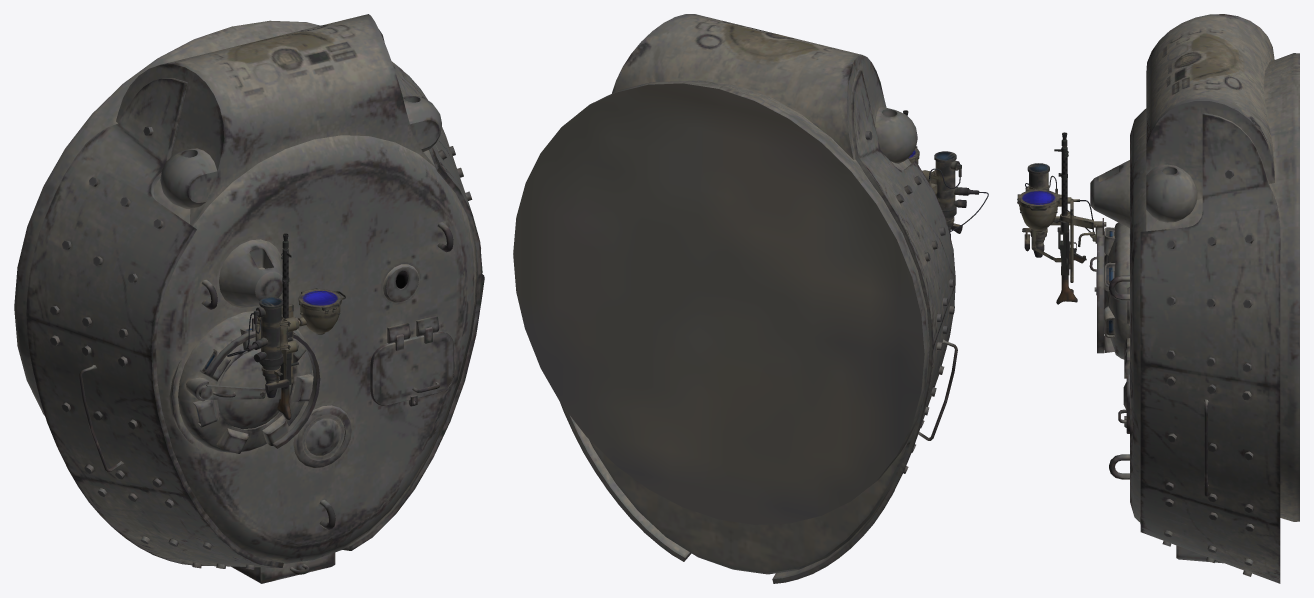
File: Turret_01.glb
The picture shows the model from 3 angles, left to right: view 1: azimuth 30°, elevation 25°; view 2: azimuth 150°, elevation 25°; view 3: azimuth 270°, elevation 25°; orthographic projection. The views are drawn at different scales.
Parts seen in each view (by area): view 1: set_0_group_0; view 2: set_0_group_0; view 3: set_0_group_0.
Part boxes in pixels (box(x1,y1,x2,y2)): set_0_group_0: box(14, 14, 484, 583); set_0_group_0: box(513, 14, 988, 583); set_0_group_0: box(1017, 14, 1299, 583).
Bounding box in the file's own units: 3.03 × 3.57 × 1.82.
1 material, 1 textured.
